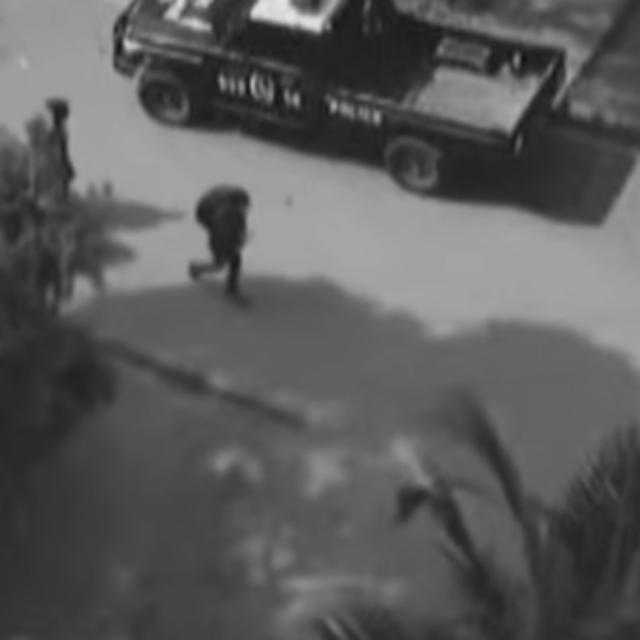Invader: (185, 182, 251, 298)
